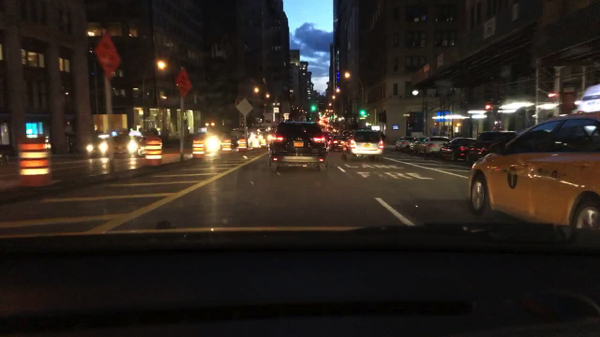car: (467, 81, 599, 231), (266, 121, 330, 173), (468, 130, 516, 164), (342, 130, 386, 163), (438, 137, 478, 161), (111, 134, 151, 158), (418, 136, 448, 154), (87, 137, 111, 157), (225, 131, 245, 149), (330, 134, 347, 154), (394, 135, 414, 151), (407, 137, 427, 152), (206, 136, 221, 154), (261, 132, 274, 145), (250, 132, 261, 147), (341, 130, 348, 135)
traffic light: (359, 109, 367, 116), (310, 105, 317, 111)
traffic sign: (92, 30, 122, 80), (174, 68, 194, 100), (235, 97, 254, 116), (401, 113, 410, 117), (274, 107, 279, 114), (284, 114, 289, 121), (359, 117, 365, 120)
